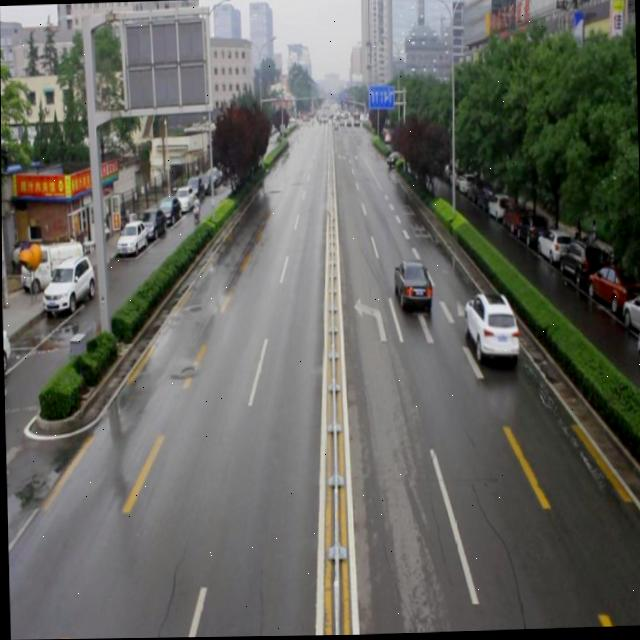car: (460, 288, 519, 363), (392, 260, 431, 312), (385, 152, 401, 167)
